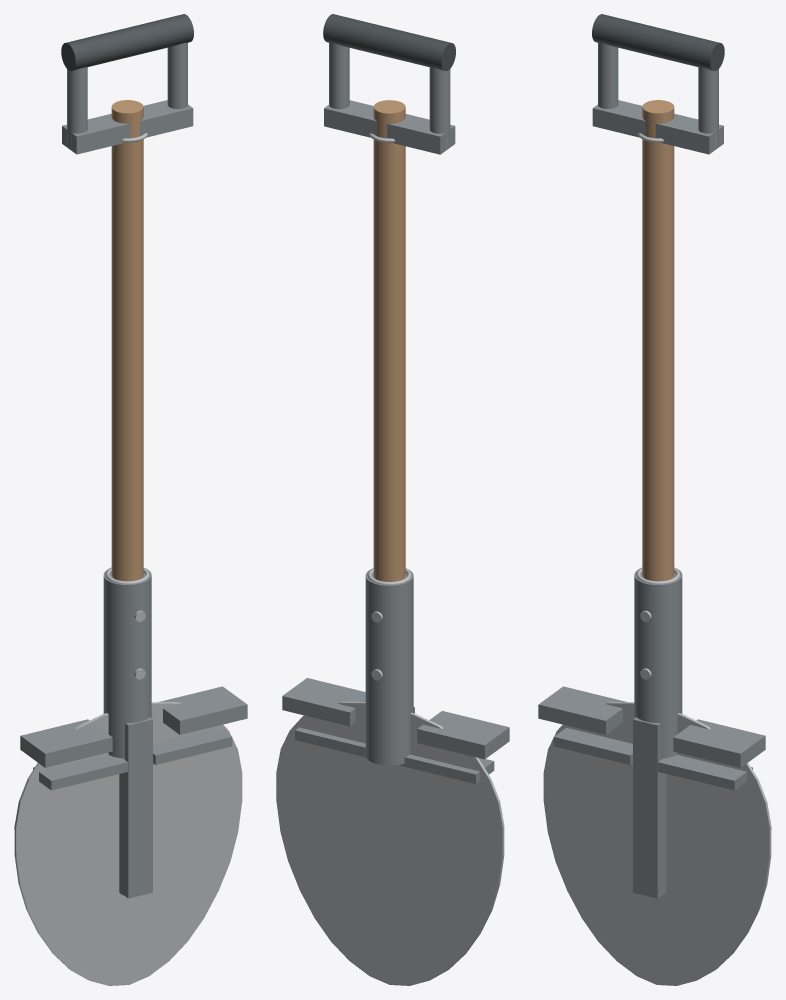
The model's file is detailed-beach-shovel.glb.
The picture shows the model from 3 angles, left to right: view 1: azimuth 30°, elevation 25°; view 2: azimuth 150°, elevation 25°; view 3: azimuth 330°, elevation 25°; orthographic projection.
Visible parts, largest first — view 1: Forged Blade, Ash Shaft, Steel Socket, Blade Spine, D Grip, Grip Base, Left Foot Tread, Right Foot Tread, Left Spade Step, Right Spade Step, Left Grip Arm, Right Grip Arm; view 2: Forged Blade, Ash Shaft, Steel Socket, D Grip, Grip Base, Left Foot Tread, Right Foot Tread, Left Grip Arm, Right Grip Arm, Left Spade Step, Right Spade Step; view 3: Forged Blade, Ash Shaft, Steel Socket, Blade Spine, D Grip, Grip Base, Right Foot Tread, Left Foot Tread, Right Spade Step, Left Spade Step, Right Grip Arm, Left Grip Arm.
Part boxes in pixels (x1,y1,x2,y2): Forged Blade: [14, 702, 242, 985]; Ash Shaft: [111, 100, 143, 581]; Steel Socket: [103, 567, 151, 759]; Blade Spine: [120, 717, 152, 898]; D Grip: [61, 14, 193, 70]; Grip Base: [62, 100, 193, 154]; Left Foot Tread: [20, 719, 112, 767]; Right Foot Tread: [158, 686, 247, 734]; Left Spade Step: [33, 754, 127, 790]; Right Spade Step: [153, 727, 232, 764]; Left Grip Arm: [67, 67, 87, 147]; Right Grip Arm: [167, 43, 187, 108]; Forged Blade: [276, 701, 504, 985]; Ash Shaft: [373, 100, 405, 581]; Steel Socket: [365, 568, 413, 765]; D Grip: [323, 14, 455, 71]; Grip Base: [324, 100, 455, 154]; Left Foot Tread: [417, 711, 509, 759]; Right Foot Tread: [282, 678, 365, 726]; Left Grip Arm: [429, 67, 450, 147]; Right Grip Arm: [329, 43, 349, 109]; Left Spade Step: [399, 754, 494, 783]; Right Spade Step: [295, 727, 365, 757]; Forged Blade: [543, 702, 771, 985]; Ash Shaft: [642, 100, 674, 581]; Steel Socket: [634, 567, 682, 759]; Blade Spine: [633, 717, 665, 898]; D Grip: [592, 14, 724, 70]; Grip Base: [592, 100, 723, 154]; Right Foot Tread: [673, 719, 765, 767]; Left Foot Tread: [538, 686, 627, 734]; Right Spade Step: [658, 754, 752, 790]; Left Spade Step: [553, 727, 632, 764]; Right Grip Arm: [698, 67, 718, 147]; Left Grip Arm: [598, 43, 618, 108].
Bounding box in the file's own units: 0.3692 × 1.49 × 0.0905.
